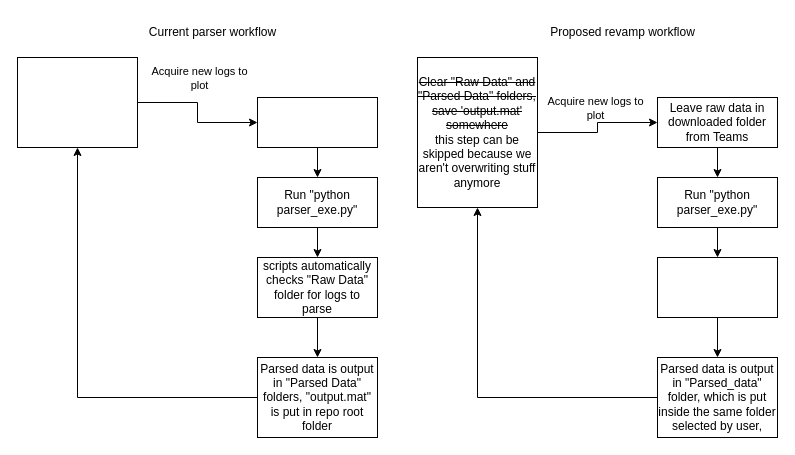
Some shapes in this 795 by 455 pixel diagram are drawn without their labels. The shapes that lost their labels are listed below. From the top down, each one's centre as x and y in pixels, then its label:
(77,102): Clear "Raw Data" and "Parsed Data" folders, save 'output.mat' somewhere
(317,122): Drop raw data in "Raw Data" folder
(717,287): script prompts user to select folder containing all raw logs
